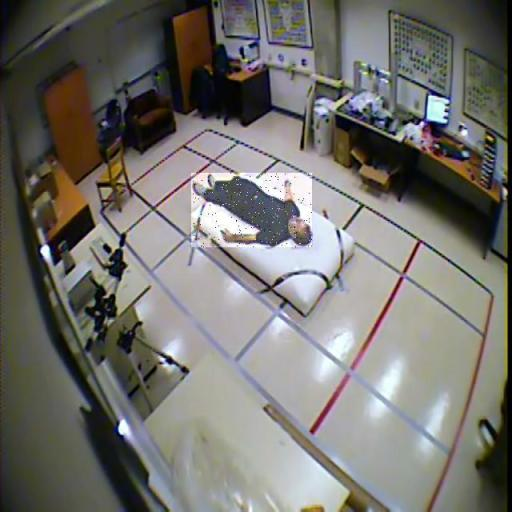Fall: (191, 173, 312, 247)
